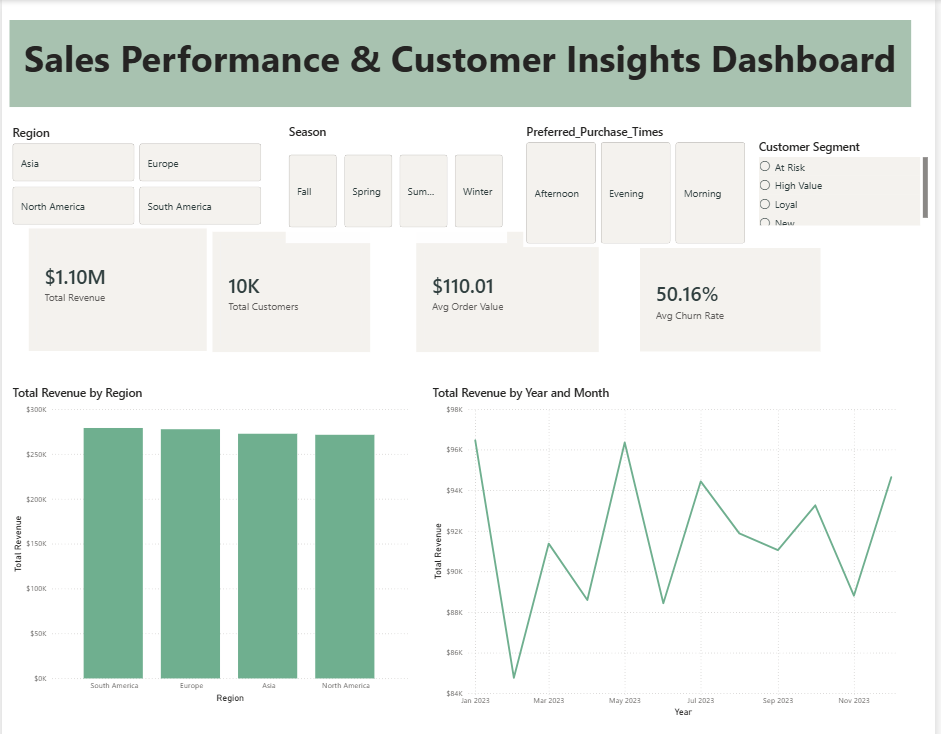

What the dashboard file says about the page in this screenshot:
{"tool":"powerbi","page":{"name":"Executive Summary","canvas":[1500,1200],"ordinal":0},"visuals":[{"type":"cardVisual","fields":{"Data":["Sales_Data.Total Revenue"]},"box":[38,340.7,296.7,230],"z":0},{"type":"cardVisual","fields":{"Data":["Sales_Data.Total Customers"]},"box":[334.7,367.3,263.3,203.3],"z":1000},{"type":"cardVisual","fields":{"Data":["Sales_Data.Avg Order Value"]},"box":[661.3,367.3,303.3,203.3],"z":2000},{"type":"cardVisual","fields":{"Data":["Sales_Data.Avg Churn Rate"]},"box":[1020.7,394,300,176],"z":3000},{"type":"lineChart","fields":{"Y":["Sales_Data.Total Revenue"],"Category":["DateTable.Date.Variation.Date Hierarchy.Year","DateTable.Date.Variation.Date Hierarchy.Month"]},"box":[688.7,620,774,540],"z":4000},{"type":"clusteredColumnChart","fields":{"Y":["Sales_Data.Total Revenue"],"Category":["Sales_Data.Region"]},"box":[12.7,620,646,516],"z":5000},{"type":"advancedSlicerVisual","fields":{"Values":["Sales_Data.Region"]},"box":[12.7,202,410,166],"z":6000},{"type":"advancedSlicerVisual","fields":{"Values":["Sales_Data.Season"]},"box":[456.7,200,356,192],"z":7000},{"type":"advancedSlicerVisual","fields":{"Values":["Sales_Data.Preferred_Purchase_Times"]},"box":[838.7,200,364,198],"z":8000},{"type":"listSlicer","fields":{"Values":["Sales_Data.Customer Segment"]},"box":[1212.7,224,282,144],"z":9000},{"type":"textbox","box":[12.5,32.5,1450,140],"z":10000}]}

Visuals, with their boxes in screenshot pixels (x1, y1, x2, y2), scaled from the page's 1500x1200 canvas onto the 941x734 screenshot:
cardVisual - Sales_Data.Total Revenue: crop(24, 208, 210, 349)
cardVisual - Sales_Data.Total Customers: crop(210, 225, 375, 349)
cardVisual - Sales_Data.Avg Order Value: crop(415, 225, 605, 349)
cardVisual - Sales_Data.Avg Churn Rate: crop(640, 241, 829, 349)
lineChart - Sales_Data.Total Revenue x DateTable.Date.Variation.Date Hierarchy.Year: crop(432, 379, 918, 710)
clusteredColumnChart - Sales_Data.Total Revenue x Sales_Data.Region: crop(8, 379, 413, 695)
advancedSlicerVisual - Sales_Data.Region: crop(8, 124, 265, 225)
advancedSlicerVisual - Sales_Data.Season: crop(287, 122, 510, 240)
advancedSlicerVisual - Sales_Data.Preferred_Purchase_Times: crop(526, 122, 754, 243)
listSlicer - Sales_Data.Customer Segment: crop(761, 137, 938, 225)
textbox: crop(8, 20, 917, 106)
